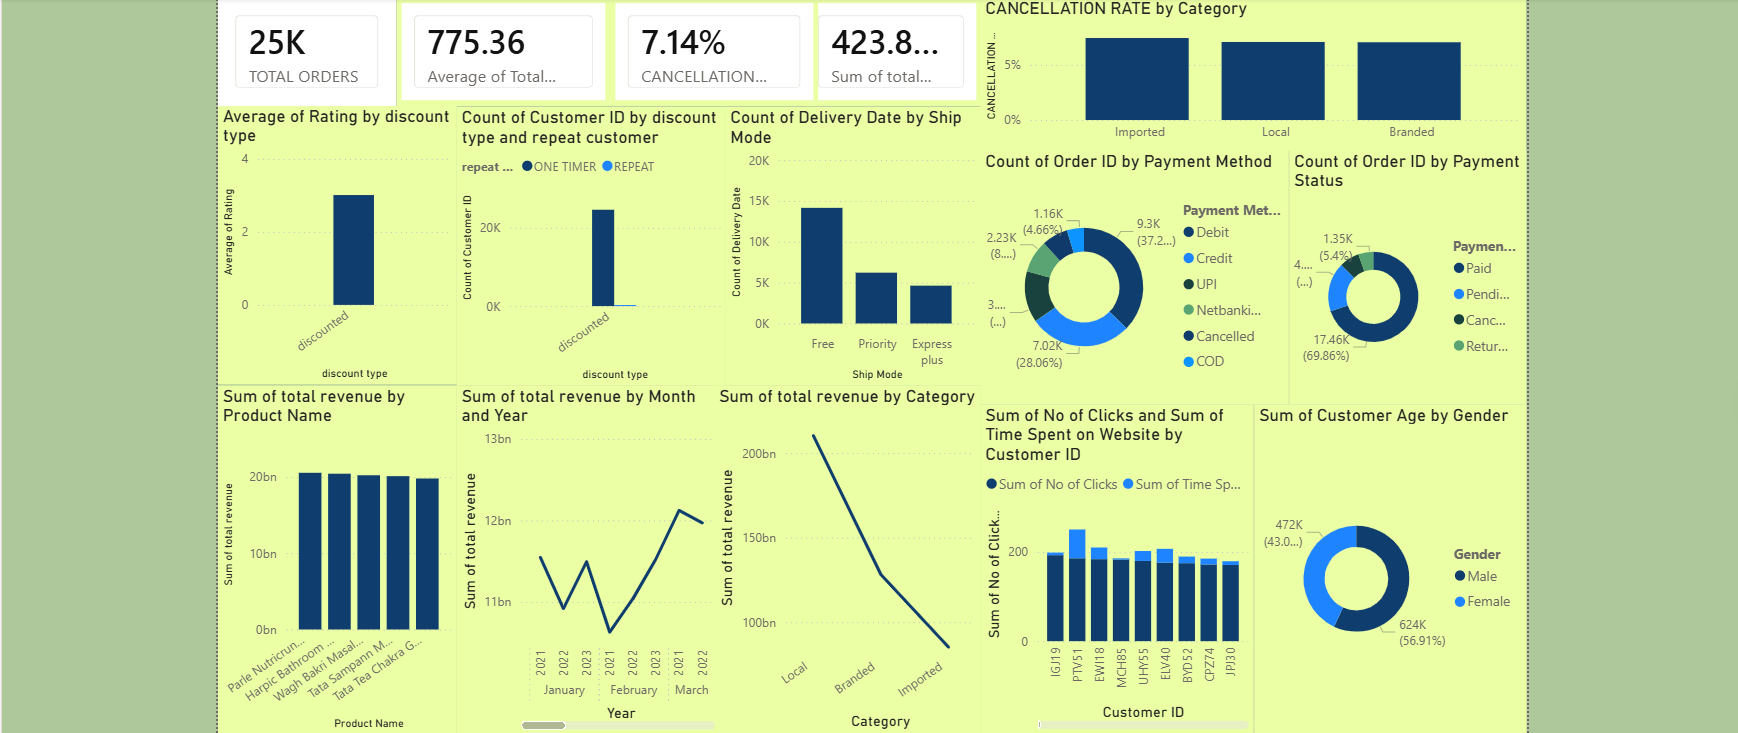

What the dashboard file says about the page in this screenshot:
{"tool":"powerbi","page":{"name":"Page 1","canvas":[1280,720],"ordinal":0},"visuals":[{"type":"lineChart","fields":{"Category":["Dmart+Dataset_Tableau.Order Date.Variation.Date Hierarchy.Month","Dmart+Dataset_Tableau.Order Date.Variation.Date Hierarchy.Year"],"Y":["Sum(Dmart+Dataset_Tableau.total revenue)"]},"box":[233.3,378.7,263.5,341.7],"z":0},{"type":"cardVisual","fields":{"Data":["Sum(Dmart+Dataset_Tableau.total revenue)"]},"box":[569.5,0,177,105.7],"z":1000},{"type":"donutChart","fields":{"Y":["Sum(Dmart+Dataset_Tableau.Customer Age)"],"Category":["Dmart+Dataset_Tableau.Gender"]},"box":[1014.1,397.9,266.2,322.5],"z":2000},{"type":"lineChart","fields":{"Category":["Dmart+Dataset_Tableau.Category"],"Y":["Sum(Dmart+Dataset_Tableau.total revenue)"]},"box":[485.8,378.7,260.7,341.7],"z":3000},{"type":"columnChart","fields":{"Y":["Sum(Dmart+Dataset_Tableau.No of Clicks)","Sum(Dmart+Dataset_Tableau.Time Spent on Website)"],"Category":["Dmart+Dataset_Tableau.Customer ID"]},"box":[746.5,397.9,267.6,322.5],"z":4000},{"type":"clusteredColumnChart","fields":{"Category":["Dmart+Dataset_Tableau.Product Name"],"Y":["Sum(Dmart+Dataset_Tableau.total revenue)"]},"box":[0,378.7,233.3,341.7],"z":5000},{"type":"clusteredColumnChart","fields":{"Category":["Dmart+Dataset_Tableau.discount type"],"Y":["Avg(Dmart+Dataset_Tableau.Rating)"]},"box":[0,105.7,233.3,273.1],"z":6000},{"type":"clusteredColumnChart","fields":{"Category":["Dmart+Dataset_Tableau.discount type"],"Series":["Dmart+Dataset_Tableau.repeat customer"],"Y":["Count(Dmart+Dataset_Tableau.Customer ID)"]},"box":[233,106,263,273],"z":7000},{"type":"columnChart","fields":{"Category":["Dmart+Dataset_Tableau.Ship Mode"],"Y":["CountNonNull(Dmart+Dataset_Tableau.Delivery Date)"]},"box":[497,106,250,273],"z":8000},{"type":"cardVisual","fields":{"Data":["Dmart+Dataset_Tableau.CANCELLATION RATE"]},"box":[384.2,0,203.1,105.7],"z":9000},{"type":"cardVisual","fields":{"Data":["Dmart+Dataset_Tableau.TOTAL ORDERS"]},"box":[0,0,174.3,105.7],"z":10000},{"type":"cardVisual","fields":{"Data":["Avg(Dmart+Dataset_Tableau.Total Order Value)"]},"box":[174.3,0,209.9,105.7],"z":11000},{"type":"donutChart","fields":{"Y":["CountNonNull(Dmart+Dataset_Tableau.Order ID)"],"Category":["Dmart+Dataset_Tableau.Payment Status"]},"box":[1048.4,149.6,231.9,248.4],"z":12000},{"type":"donutChart","fields":{"Category":["Dmart+Dataset_Tableau.Payment Method"],"Y":["CountNonNull(Dmart+Dataset_Tableau.Order ID)"]},"box":[746.5,149.6,301.9,248.4],"z":13000},{"type":"clusteredColumnChart","fields":{"Category":["Dmart+Dataset_Tableau.Category"],"Y":["Dmart+Dataset_Tableau.CANCELLATION RATE"]},"box":[746.5,0,533.8,149.6],"z":14000}]}

Visuals, with their boxes in screenshot pixels (x1, y1, x2, y2):
lineChart - Dmart+Dataset_Tableau.Order Date.Variation.Date Hierarchy.Month x Dmart+Dataset_Tableau.Order Date.Variation.Date Hierarchy.Year: 325 389 589 732
cardVisual - Sum(Dmart+Dataset_Tableau.total revenue): 662 9 840 115
donutChart - Sum(Dmart+Dataset_Tableau.Customer Age) x Dmart+Dataset_Tableau.Gender: 1109 409 1376 732
lineChart - Dmart+Dataset_Tableau.Category x Sum(Dmart+Dataset_Tableau.total revenue): 578 389 840 732
columnChart - Sum(Dmart+Dataset_Tableau.No of Clicks) x Sum(Dmart+Dataset_Tableau.Time Spent on Website): 840 409 1109 732
clusteredColumnChart - Dmart+Dataset_Tableau.Product Name x Sum(Dmart+Dataset_Tableau.total revenue): 91 389 325 732
clusteredColumnChart - Dmart+Dataset_Tableau.discount type x Avg(Dmart+Dataset_Tableau.Rating): 91 115 325 389
clusteredColumnChart - Dmart+Dataset_Tableau.discount type x Dmart+Dataset_Tableau.repeat customer: 325 116 589 390
columnChart - Dmart+Dataset_Tableau.Ship Mode x CountNonNull(Dmart+Dataset_Tableau.Delivery Date): 590 116 841 390
cardVisual - Dmart+Dataset_Tableau.CANCELLATION RATE: 476 9 680 115
cardVisual - Dmart+Dataset_Tableau.TOTAL ORDERS: 91 9 266 115
cardVisual - Avg(Dmart+Dataset_Tableau.Total Order Value): 266 9 476 115
donutChart - CountNonNull(Dmart+Dataset_Tableau.Order ID) x Dmart+Dataset_Tableau.Payment Status: 1143 159 1376 409
donutChart - Dmart+Dataset_Tableau.Payment Method x CountNonNull(Dmart+Dataset_Tableau.Order ID): 840 159 1143 409
clusteredColumnChart - Dmart+Dataset_Tableau.Category x Dmart+Dataset_Tableau.CANCELLATION RATE: 840 9 1376 159
